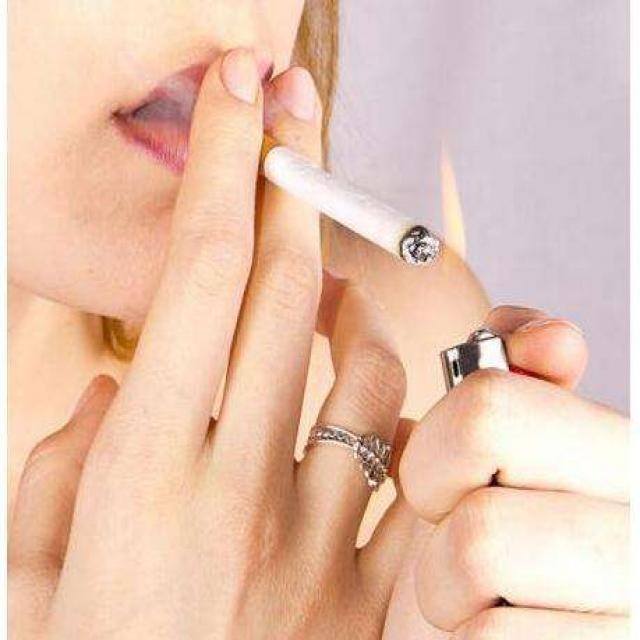cigarette: (248, 103, 447, 295)
